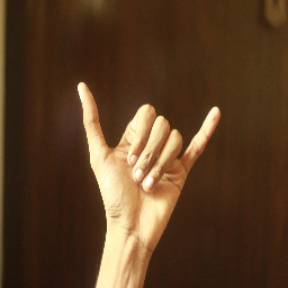J: (66, 74, 225, 229)
